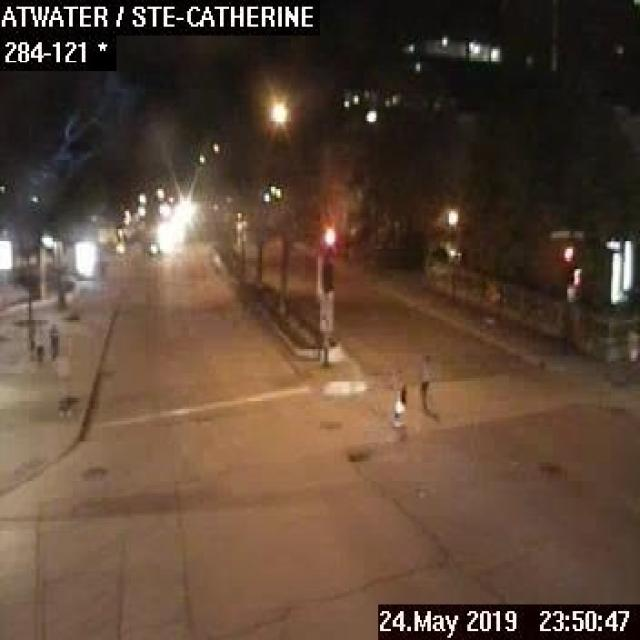pedestrian: (415, 351, 432, 408), (390, 361, 405, 425), (48, 320, 57, 358), (34, 325, 44, 359)
